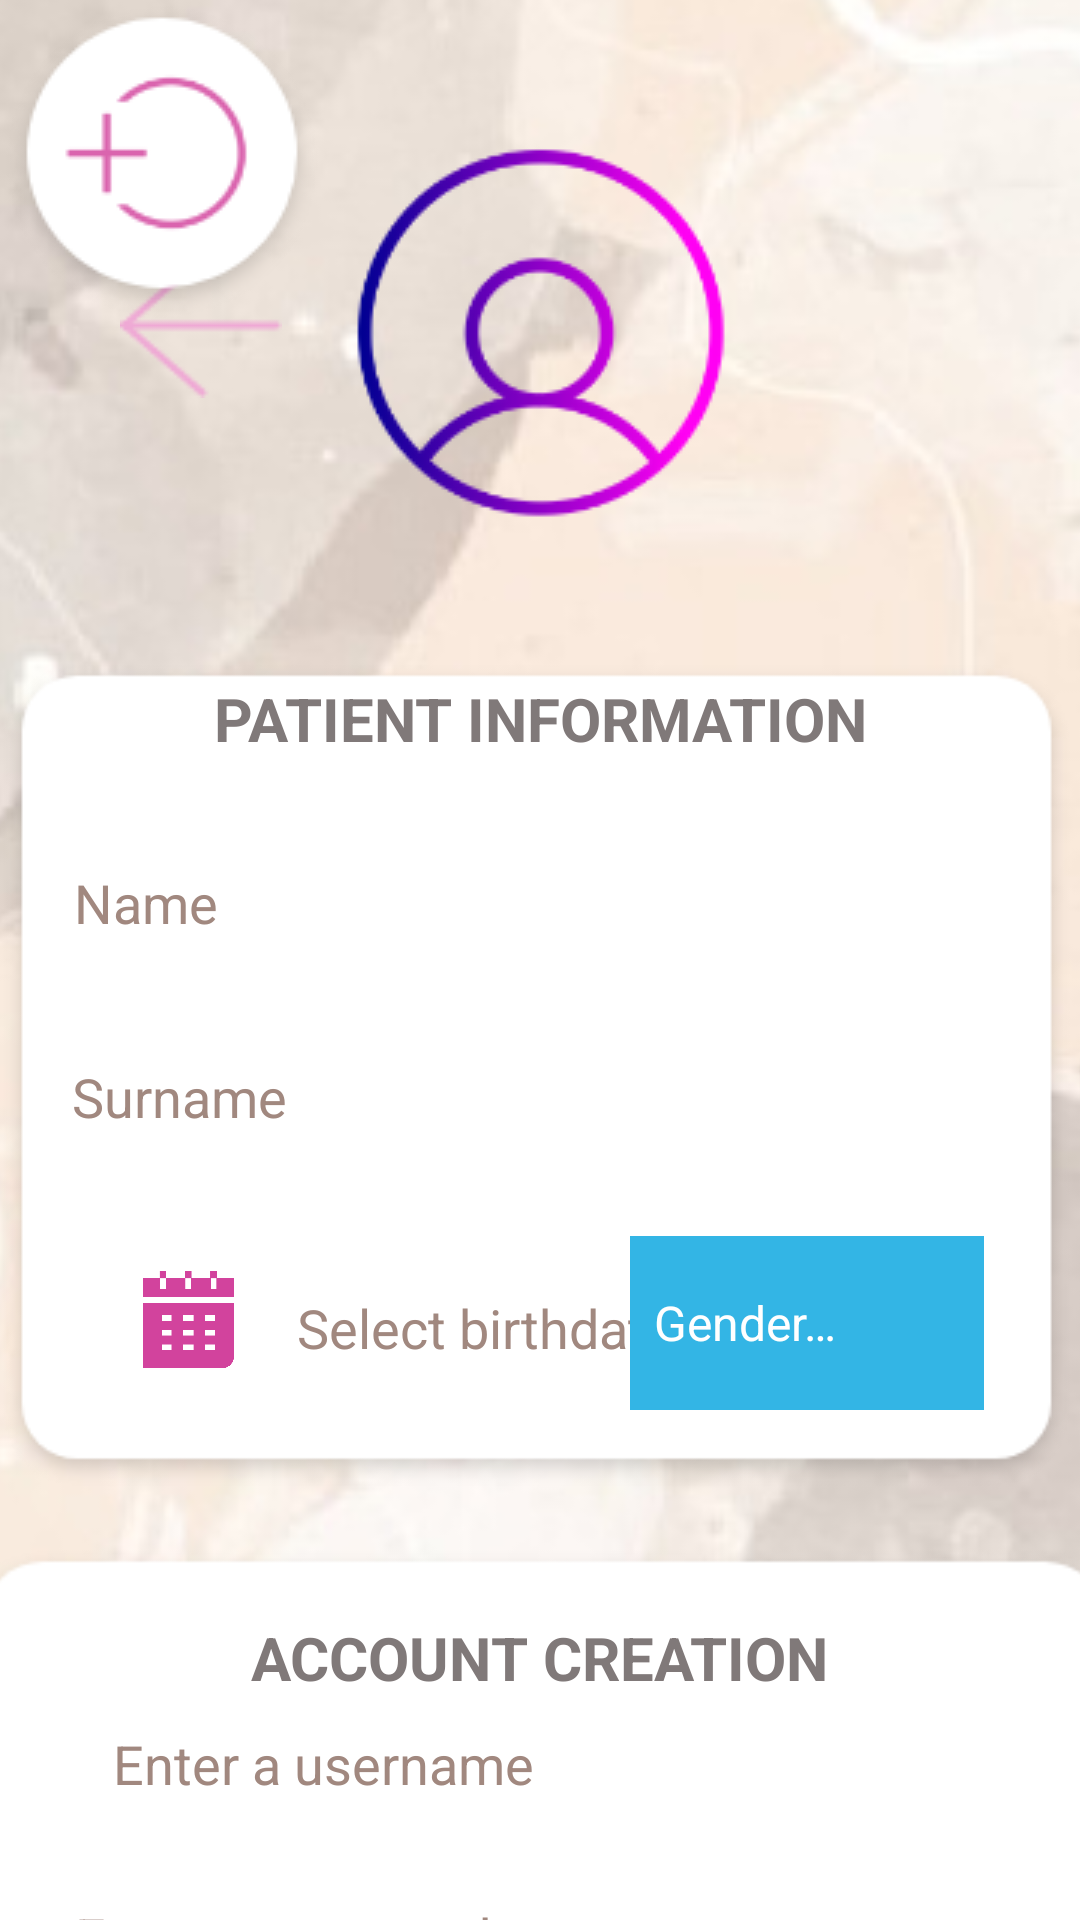

Icon click points for this 1080 x 1920 phone screenshot, format [x,y]:
flecha: [201,325]
noun calendar: [188,1319]
signupimage: [156,171]
